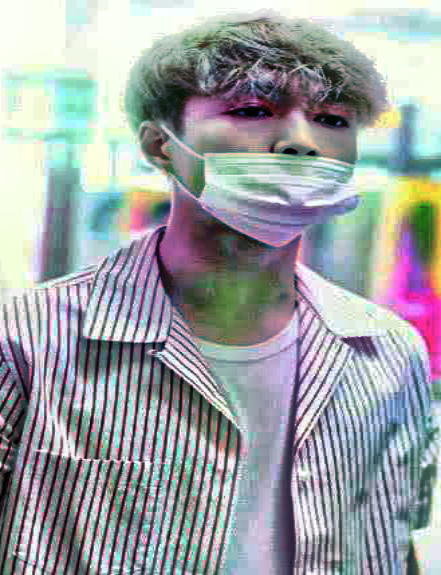mask_weared_incorrect: (178, 97, 364, 251)
